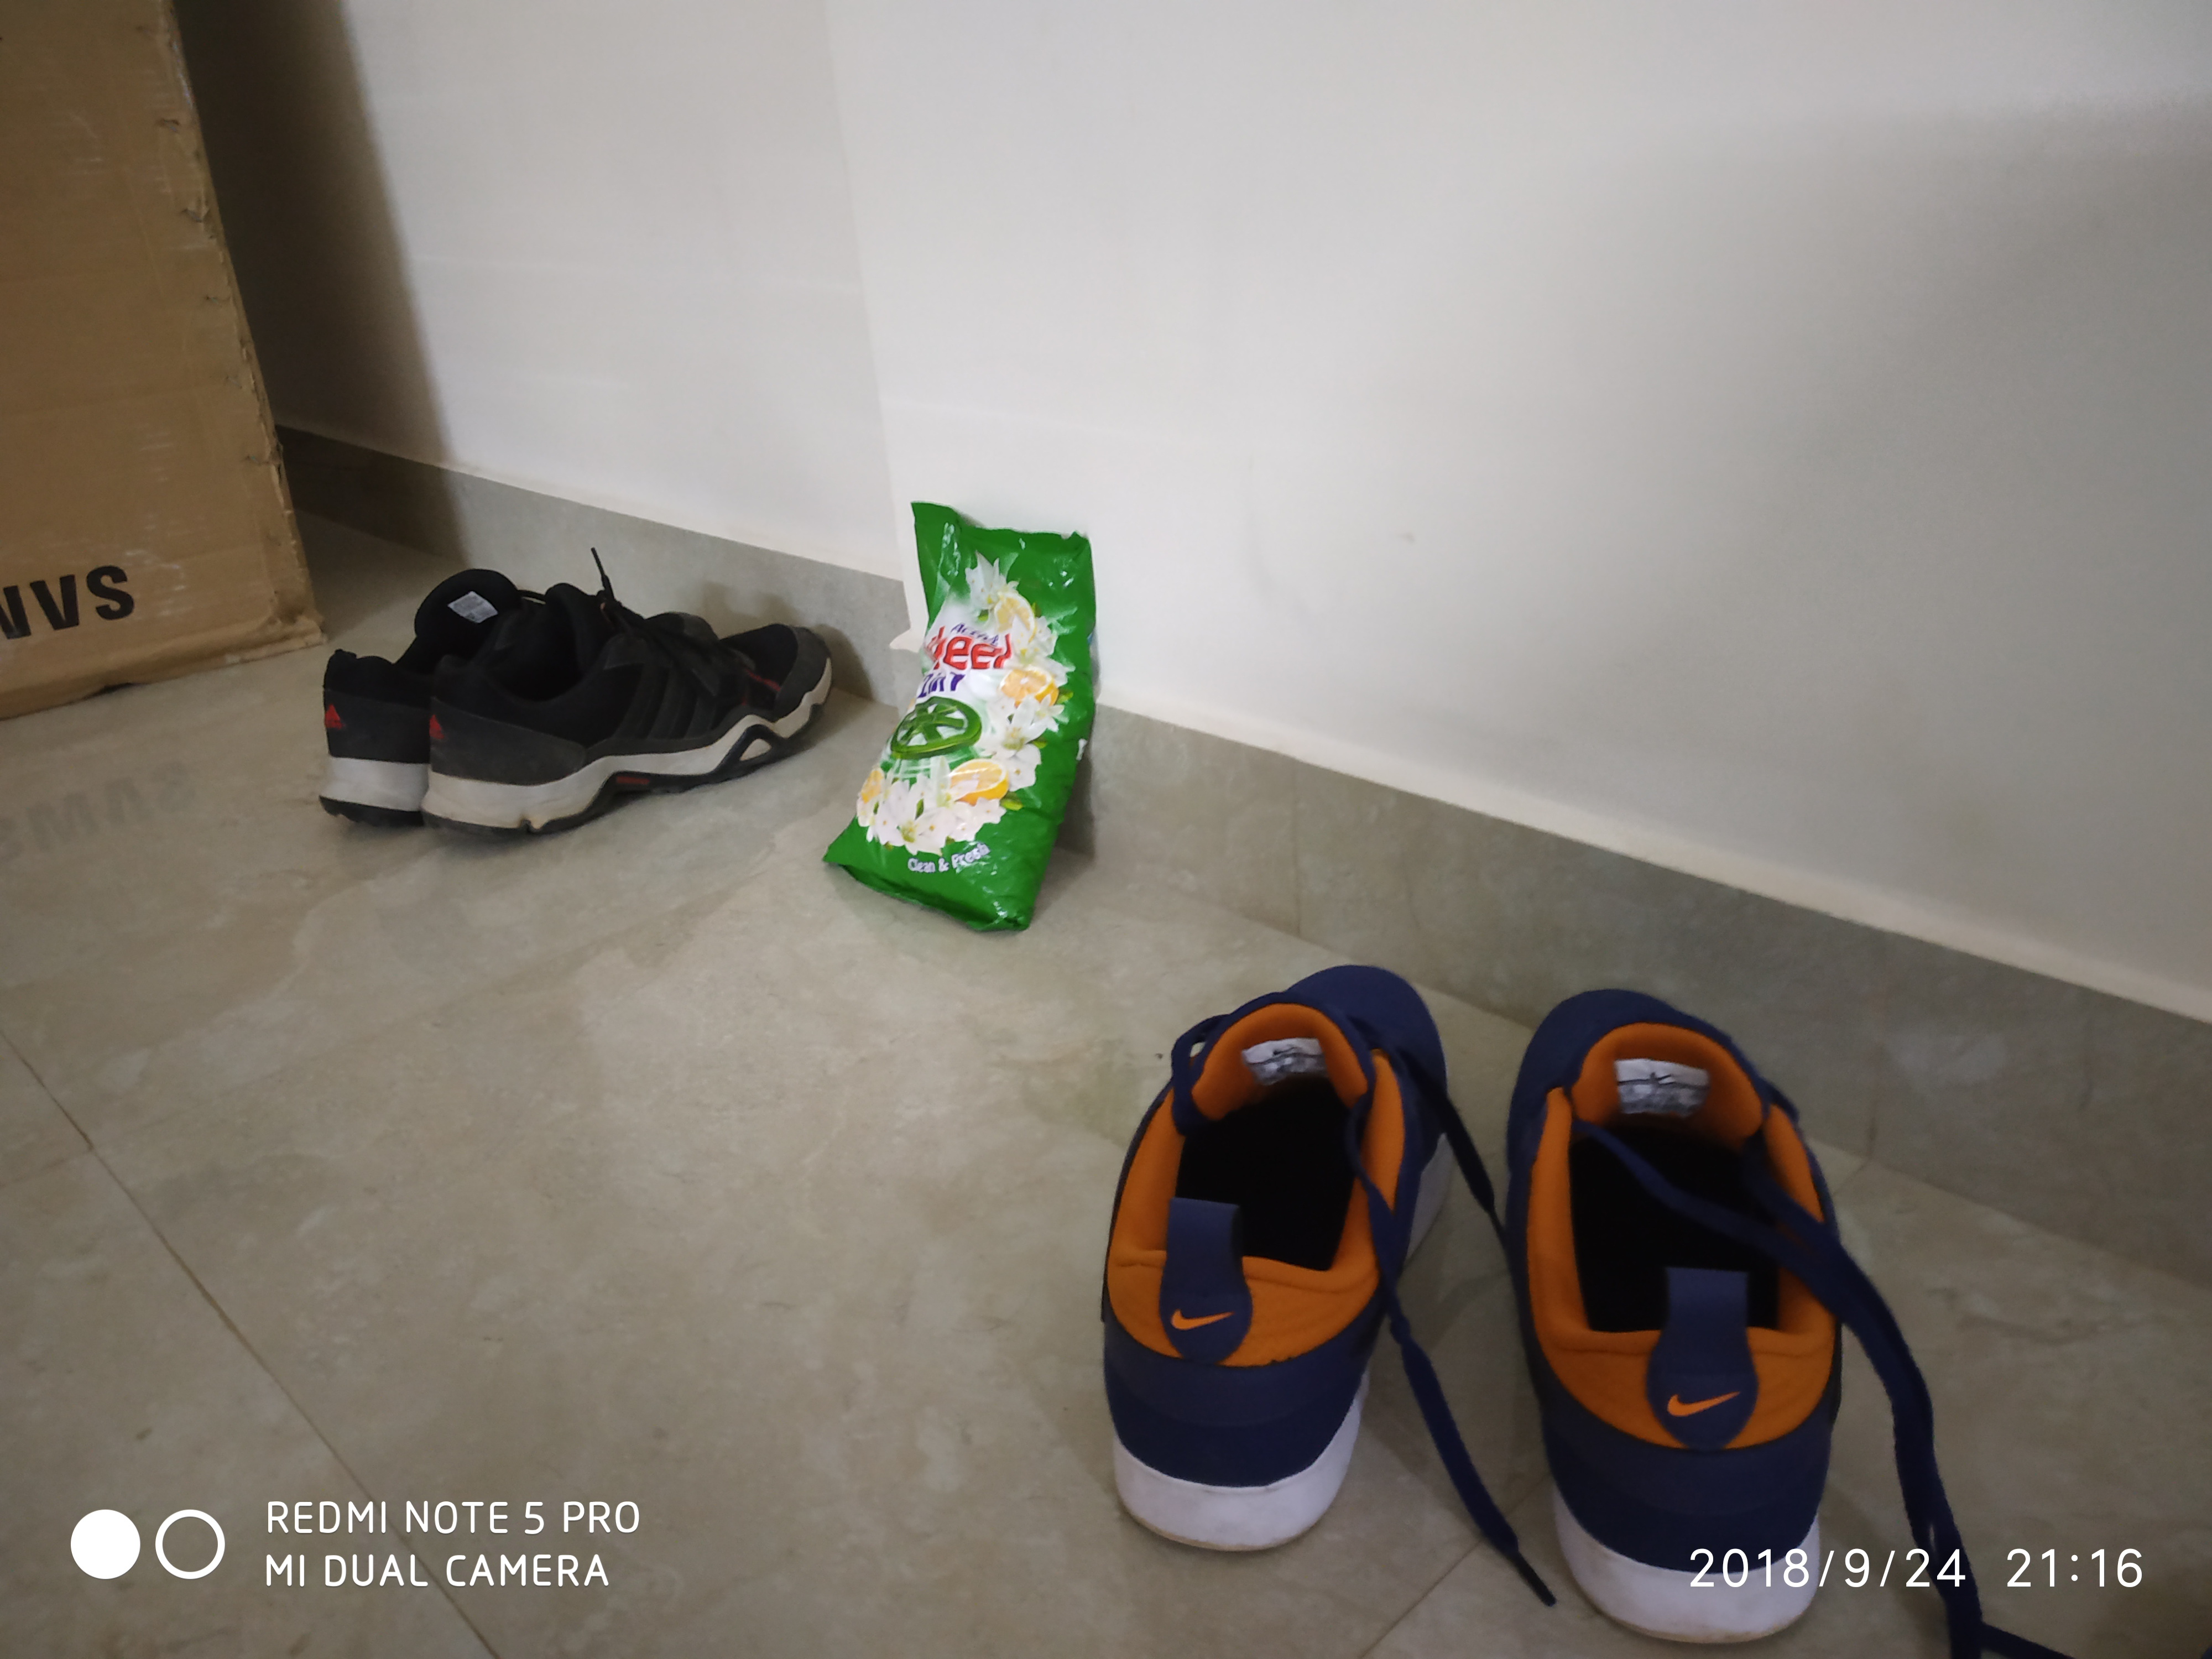detergent: (821, 485, 1097, 932)
